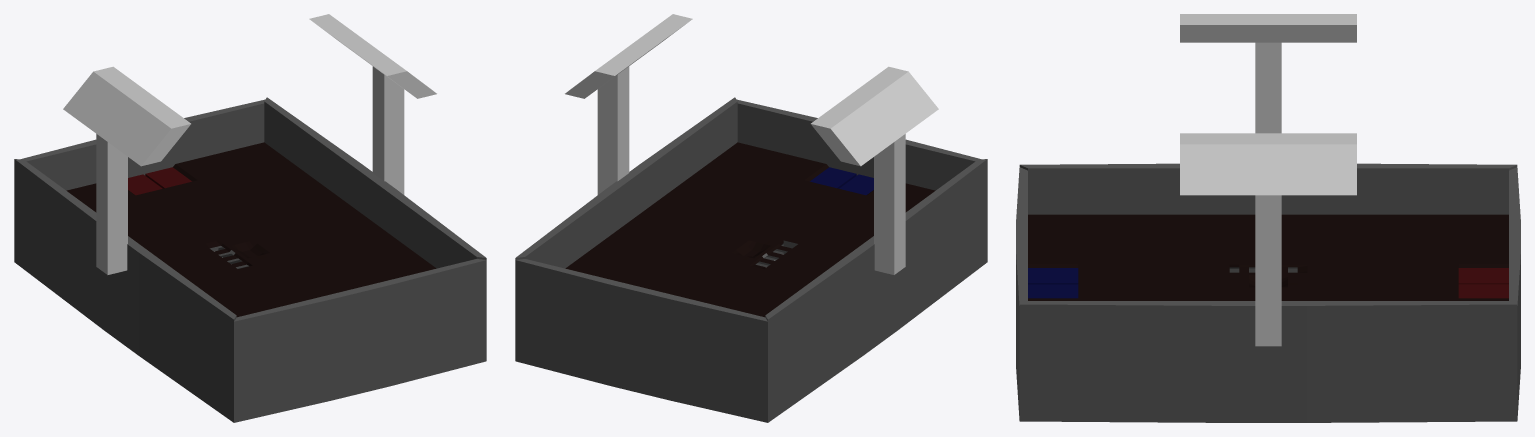
File: BlenderArena.fbx
3 renders of one model, left to right at view 1: azimuth 30°, elevation 25°; view 2: azimuth 150°, elevation 25°; view 3: azimuth 270°, elevation 25°, orthographic. The views are drawn at different scales.
Visible parts, largest first — view 1: Board, LightPole2, LightPole1, DoorP1_Two, DoorP1_One; view 2: Board, LightPole2, LightPole1, DoorP2_Two, DoorP2_One; view 3: Board, LightPole1, LightPole2, DoorP1_One, DoorP2_One, DoorP1_Two, DoorP2_Two.
Boxes of the visible parts, x1,y1,x2,y2 form: Board: [14, 97, 486, 422]; LightPole2: [63, 66, 190, 274]; LightPole1: [309, 14, 436, 194]; DoorP1_Two: [145, 167, 191, 188]; DoorP1_One: [128, 174, 162, 195]; Board: [515, 97, 987, 422]; LightPole2: [811, 66, 938, 274]; LightPole1: [565, 14, 692, 194]; DoorP2_Two: [810, 167, 856, 188]; DoorP2_One: [839, 174, 873, 195]; Board: [1016, 163, 1520, 422]; LightPole1: [1180, 133, 1356, 346]; LightPole2: [1180, 14, 1356, 133]; DoorP1_One: [1458, 268, 1508, 284]; DoorP2_One: [1028, 268, 1078, 284]; DoorP1_Two: [1458, 284, 1508, 298]; DoorP2_Two: [1028, 284, 1078, 298].
Bounding box in the file's own units: 995 × 771 × 1295.
